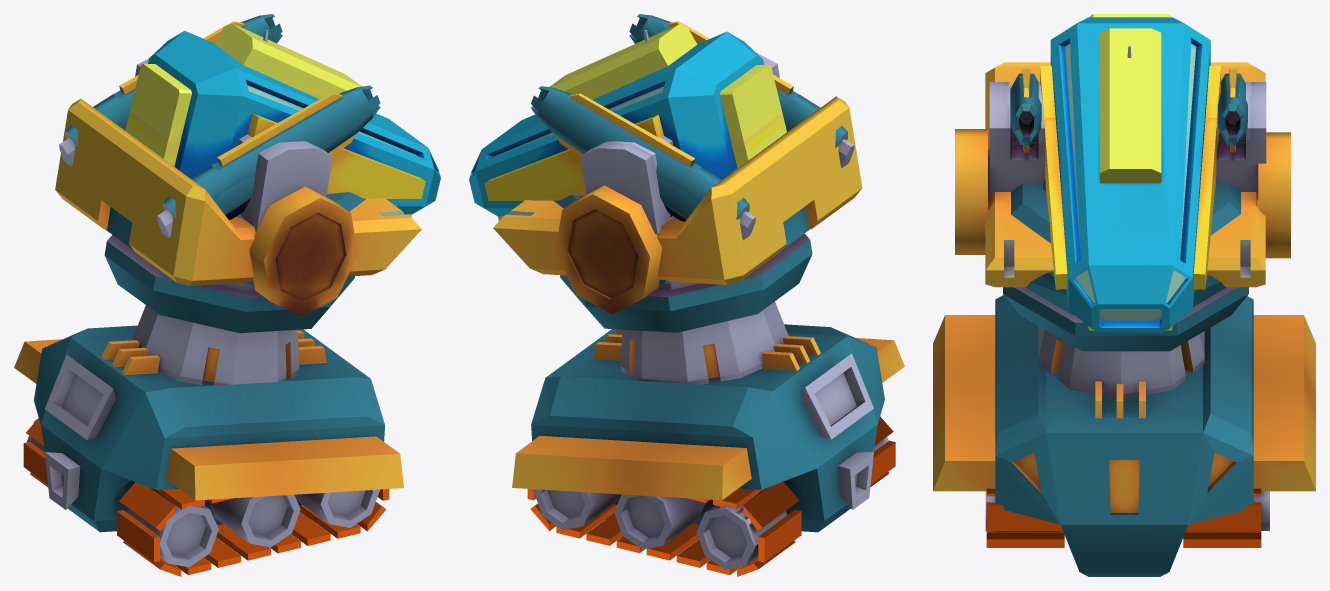
The model's file is Player_moving_upgrade4.obj.
The picture shows the model from 3 angles, left to right: view 1: azimuth 30°, elevation 25°; view 2: azimuth 150°, elevation 25°; view 3: azimuth 270°, elevation 25°; orthographic projection. The views are drawn at different scales.
Visible parts, largest first — view 1: Object015, Object014, Box009, Box017, Box016; view 2: Object015, Object014, Box009, Box016, Box017; view 3: Object015, Object014, Box017, Box016, Box009.
Part boxes in pixels (x1,y1,x2,y2): Object015: (14,23,440,532); Object014: (59,14,380,238); Box009: (27,418,379,567); Box017: (117,482,389,576); Box016: (23,418,48,487); Object015: (469,24,904,532); Object014: (531,14,854,240); Box009: (534,437,888,569); Box016: (527,482,801,576); Box017: (870,416,895,487); Object015: (933,14,1315,576); Object014: (1010,69,1247,152); Box017: (986,488,1064,547); Box016: (1183,488,1261,547); Box009: (985,491,1269,531).
Bounding box in the file's own units: 70.38 × 88.9 × 59.78.
Materials: 5 (3 with a texture image).
